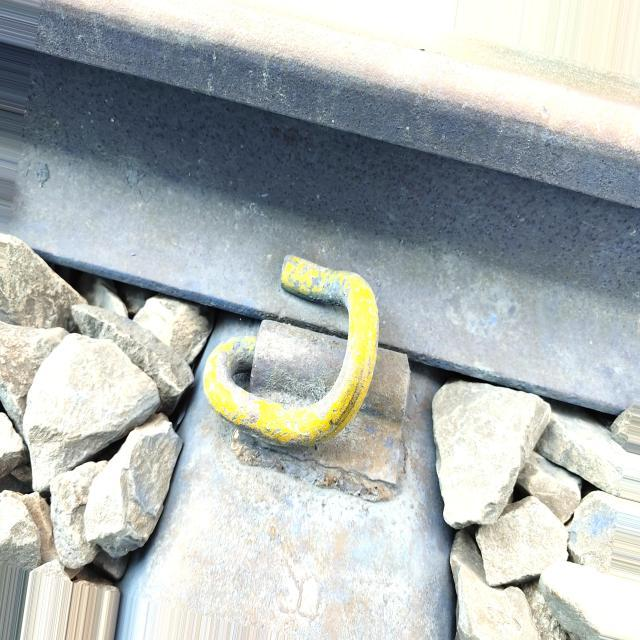Good Fasteners: (188, 247, 417, 516)
